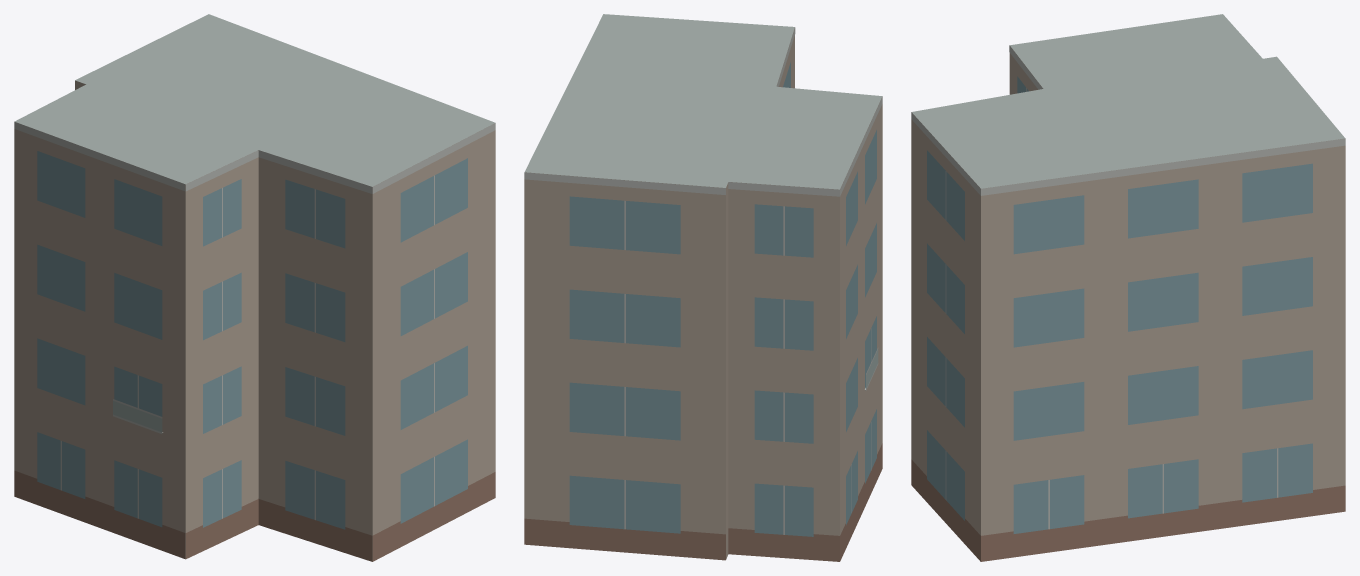
File: survey-upis-32917847.glb
3 renders of one model, left to right at view 1: azimuth 30°, elevation 25°; view 2: azimuth 150°, elevation 25°; view 3: azimuth 270°, elevation 25°, orthographic.
Parts seen in each view (by area): view 1: survey-upis-32917847.tmp; view 2: survey-upis-32917847.tmp; view 3: survey-upis-32917847.tmp.
Boxes of the visible parts, <box> form: survey-upis-32917847.tmp: <box>14,14,495,561</box>; survey-upis-32917847.tmp: <box>524,14,882,561</box>; survey-upis-32917847.tmp: <box>911,14,1345,561</box>.
Size of the model in its own units: 12.76 by 12.7 by 13.4.
